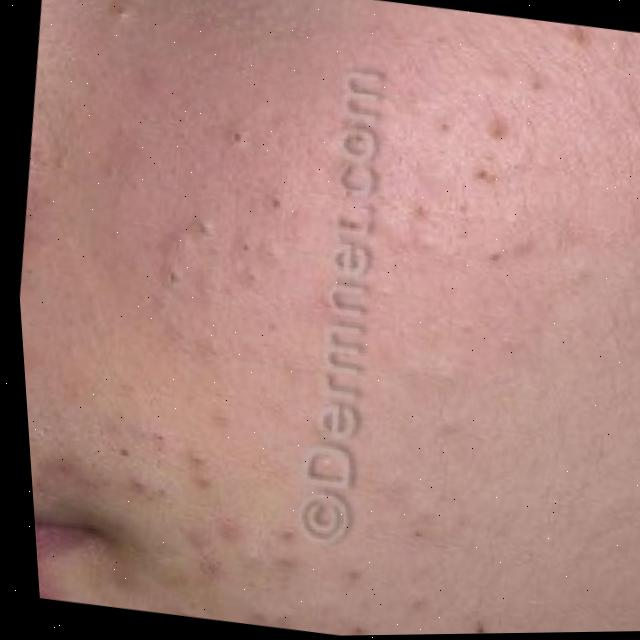Acne: (88, 0, 640, 634)
